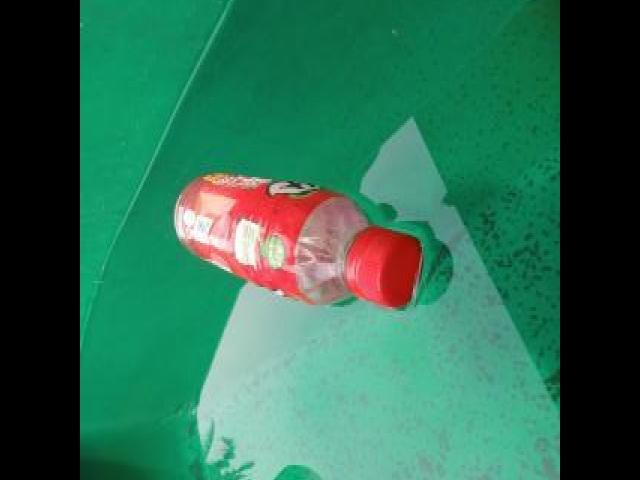Bottle: (170, 165, 426, 318)
